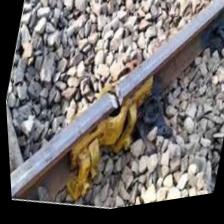person: (86, 70, 139, 129)
